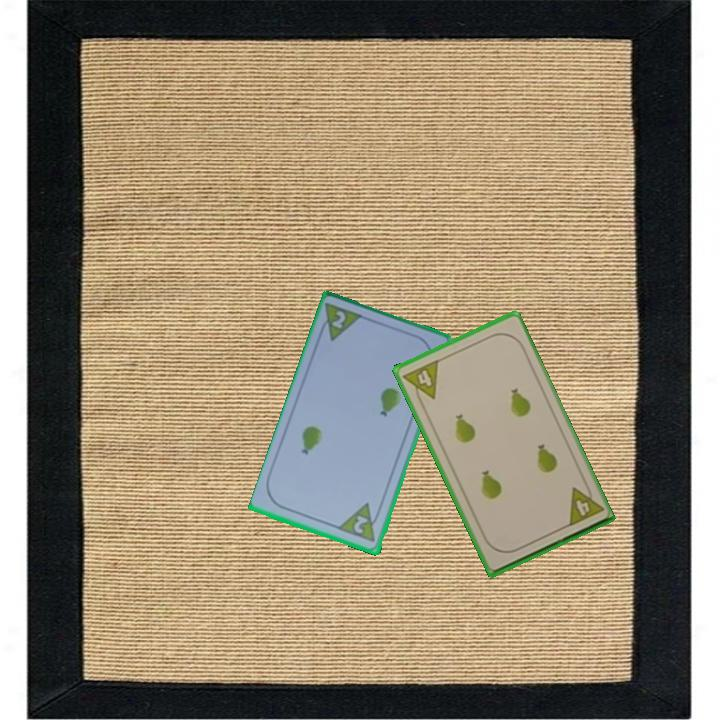2p: (336, 500, 384, 546), (328, 307, 349, 332)
4p: (399, 356, 441, 407), (564, 479, 605, 530)
